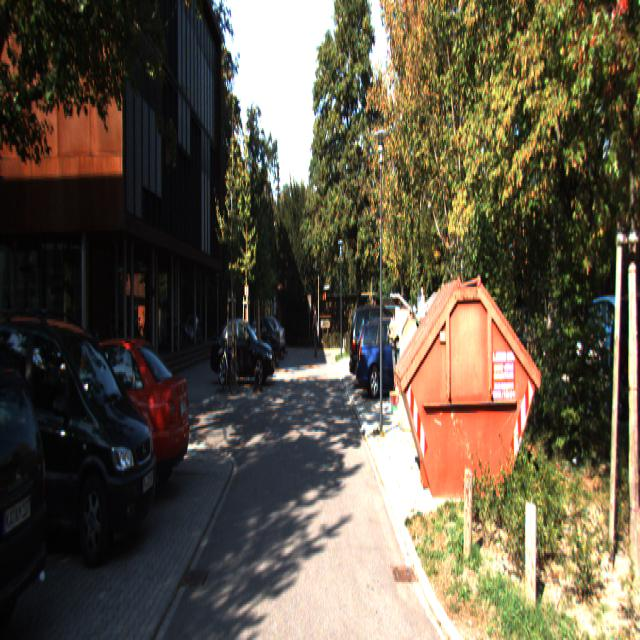Car: (0, 296, 161, 564), (21, 330, 192, 508), (0, 329, 61, 639), (356, 313, 429, 399), (349, 302, 415, 389), (604, 290, 640, 432), (210, 317, 276, 384), (233, 314, 279, 364), (248, 315, 287, 357)
